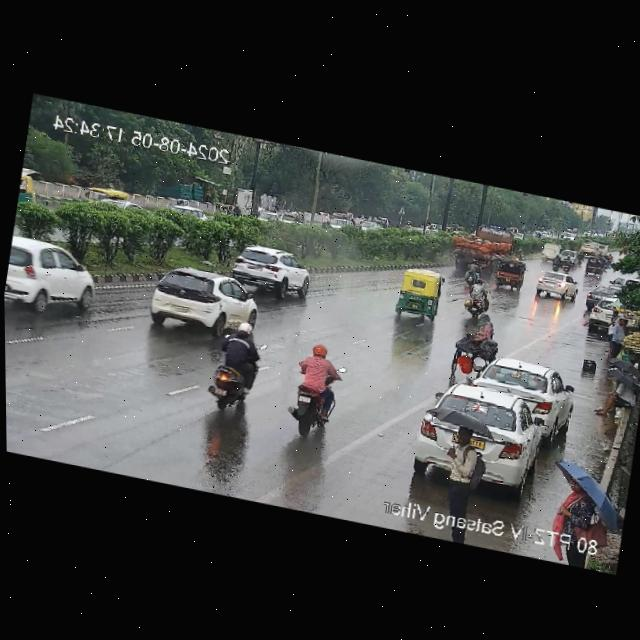car: (411, 378, 560, 499), (145, 261, 269, 346), (3, 230, 103, 321), (473, 351, 577, 429), (224, 239, 316, 301), (445, 308, 499, 381), (395, 266, 441, 323), (590, 298, 638, 337), (530, 267, 578, 302), (494, 256, 527, 290), (87, 183, 126, 209), (586, 283, 619, 310), (18, 174, 38, 206), (582, 255, 607, 278), (607, 275, 632, 293), (558, 249, 578, 265)
motorcycle: (276, 336, 349, 446), (207, 318, 280, 420), (464, 276, 489, 321), (463, 256, 483, 287), (561, 254, 573, 274), (551, 254, 562, 270), (607, 252, 614, 268)
person: (438, 424, 487, 518), (551, 477, 596, 535), (593, 376, 637, 424), (607, 314, 626, 361), (608, 361, 640, 382), (606, 311, 620, 343), (618, 310, 619, 312)
truck: (451, 220, 521, 279), (582, 240, 600, 256), (597, 242, 609, 256)
